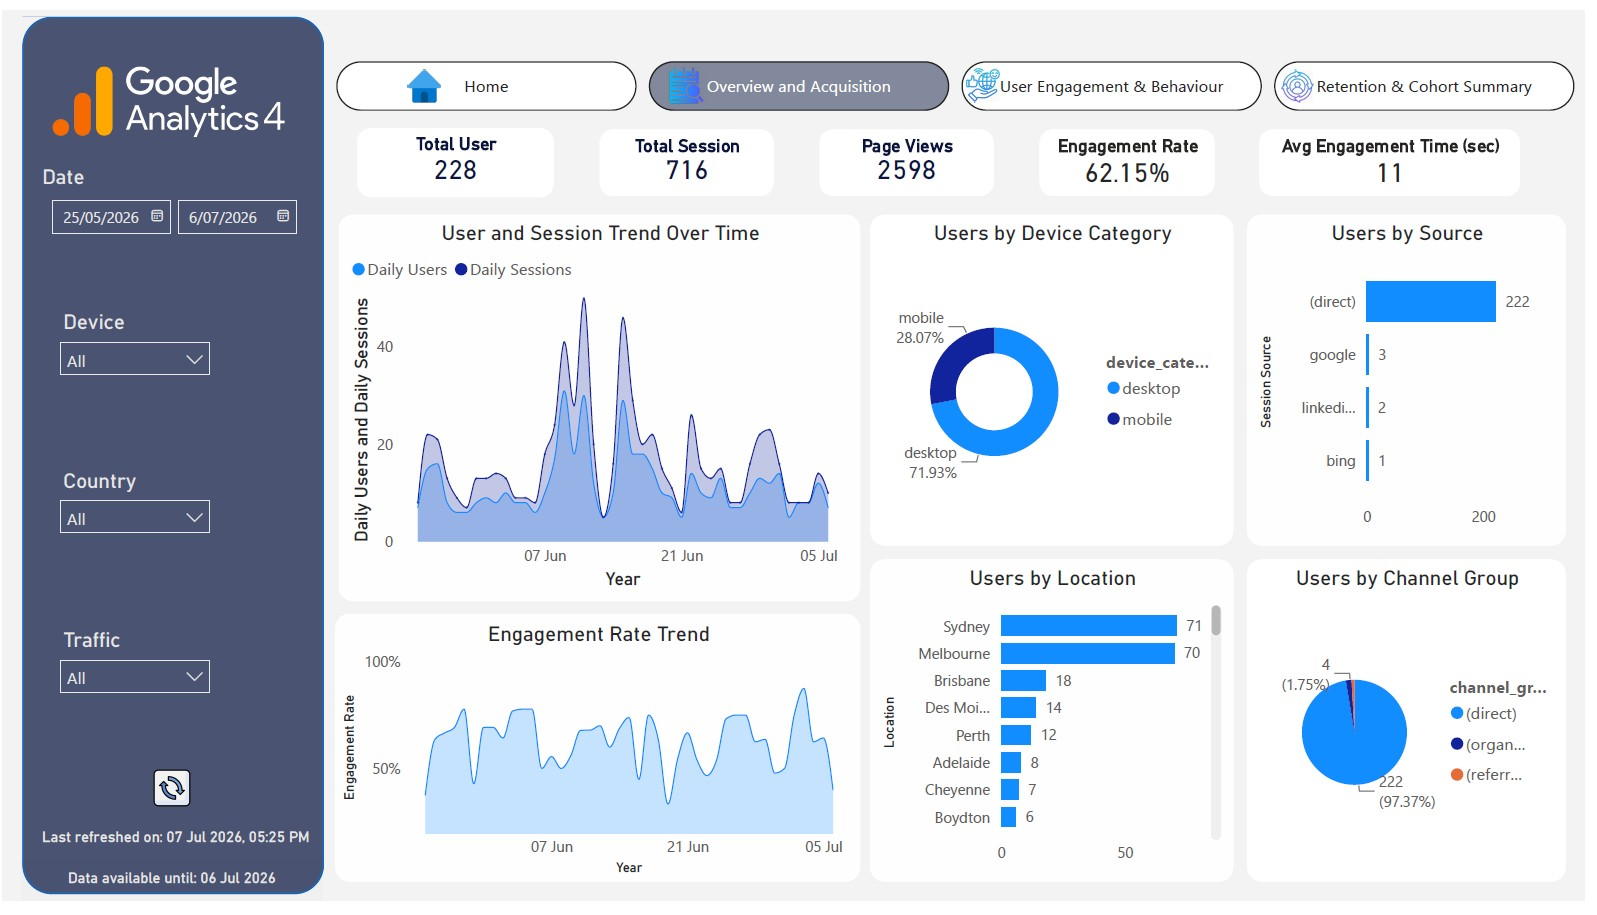

Layout of this report page (visuals, bound fields, positions):
{"tool":"powerbi","page":{"name":"Overview and Acquisition ","canvas":[1280,720],"ordinal":1},"visuals":[{"type":"card","title":"Page Views","fields":{"Values":["Measure.Total Page Views"]},"box":[660.6,95.8,141.5,54.4],"z":0},{"type":"card","title":"Total Session ","fields":{"Values":["Measure.Total Sessions"]},"box":[482.6,95.8,141.5,54.4],"z":1000},{"type":"card","title":"Total User","fields":{"Values":["Measure.Total Users"]},"box":[286.5,94.9,159.6,56.2],"z":2000},{"type":"shape","box":[11,0,254,720],"z":3000},{"type":"slicer","fields":{"Values":["Events.country"]},"box":[35.7,365.2,141.8,78.2],"z":6000},{"type":"slicer","title":"Date","fields":{"Values":["Calendar.Date"]},"box":[27.3,123.6,227.3,62.7],"z":7000},{"type":"card","title":"Engagement Rate","fields":{"Values":["Measure.Engagement Rate"]},"box":[838.6,95.8,142.4,54.4],"z":8000},{"type":"card","title":"Avg Engagement Time (sec)","fields":{"Values":["Measure.Avg Engagement Time"]},"box":[1017.4,95.8,210.4,54.4],"z":9000},{"type":"lineChart","title":"Engagement Rate Trend","fields":{"Y":["Measure.Engagement Rate"],"Category":["Calendar.Date.Variation.Date Hierarchy.Year","Calendar.Date.Variation.Date Hierarchy.Quarter","Calendar.Date.Variation.Date Hierarchy.Month","Calendar.Date.Variation.Date Hierarchy.Day"]},"box":[269.1,488.2,424.5,216.4],"z":10000},{"type":"pieChart","title":"Users by Channel Group","fields":{"Category":["Events.channel_group"],"Y":["Measure.Total UsersTrend"]},"box":[1007.3,443.6,257.3,260.9],"z":11000},{"type":"clusteredBarChart","title":"Users by Source","fields":{"Category":["Events.session_source"],"Y":["Measure.Total Users by Channel"]},"box":[1007.3,165.5,257.3,267.3],"z":12000},{"type":"donutChart","title":"Users by Device Category","fields":{"Category":["Events.device_category"],"Y":["Measure.Total UsersTrend"]},"box":[701.8,165.5,294.5,267.3],"z":13000},{"type":"barChart","title":"Users by Location","fields":{"Category":["Events.city"],"Y":["Measure.Total UsersTrend"]},"box":[701.8,443.6,294.5,260.9],"z":14000},{"type":"slicer","fields":{"Values":["Events.device_category"]},"box":[35.7,236.7,141.8,78.2],"z":15000},{"type":"card","fields":{"Values":["Measure.Last Refresh Time"]},"box":[17.2,653.8,245.7,33.6],"z":16000},{"type":"pageNavigator","box":[264.8,36.3,1015.6,49.9],"z":17000},{"type":"card","title":"Data Available until","fields":{"Values":["Measure.BigQuery Data Available Until"]},"box":[14.5,687.4,244.8,32.6],"z":18000},{"type":"image","box":[316.5,48.1,49.9,26.3],"z":19000},{"type":"image","box":[121.5,612.1,30.8,33.6],"z":20000},{"type":"image","box":[1031,48.1,33.6,26.3],"z":21000},{"type":"areaChart","title":"User and Session Trend Over Time","fields":{"Category":["Calendar.Date.Variation.Date Hierarchy.Year","Calendar.Date.Variation.Date Hierarchy.Quarter","Calendar.Date.Variation.Date Hierarchy.Month","Calendar.Date.Variation.Date Hierarchy.Day"],"Y":["Measure.Daily Users","Measure.Daily Sessions"]},"box":[271.8,165.5,421.8,312.7],"z":22000},{"type":"image","box":[779.8,46.2,27.2,28.1],"z":23000},{"type":"slicer","fields":{"Values":["Events.channel_group"]},"box":[35.7,493.6,141.8,78.2],"z":24000},{"type":"image","box":[534.1,44.4,38.1,32.6],"z":25000},{"type":"image","box":[4.5,15.4,272,117.9],"z":25001}]}

Visuals, with their boxes in screenshot pixels (x1, y1, x2, y2), scaled from the page's 1280x720 canvas onto the 1597x915 screenshot:
"Page Views" card: (x1=824, y1=122, x2=1001, y2=191)
"Total Session " card: (x1=602, y1=122, x2=779, y2=191)
"Total User" card: (x1=357, y1=121, x2=557, y2=192)
shape: (x1=14, y1=0, x2=331, y2=914)
slicer - Events.country: (x1=45, y1=464, x2=221, y2=563)
"Date" slicer: (x1=34, y1=157, x2=318, y2=237)
"Engagement Rate" card: (x1=1046, y1=122, x2=1224, y2=191)
"Avg Engagement Time (sec)" card: (x1=1269, y1=122, x2=1532, y2=191)
"Engagement Rate Trend" lineChart: (x1=336, y1=620, x2=865, y2=895)
"Users by Channel Group" pieChart: (x1=1257, y1=564, x2=1578, y2=895)
"Users by Source" clusteredBarChart: (x1=1257, y1=210, x2=1578, y2=550)
"Users by Device Category" donutChart: (x1=876, y1=210, x2=1243, y2=550)
"Users by Location" barChart: (x1=876, y1=564, x2=1243, y2=895)
slicer - Events.device_category: (x1=45, y1=301, x2=221, y2=400)
card - Measure.Last Refresh Time: (x1=21, y1=831, x2=328, y2=874)
pageNavigator: (x1=330, y1=46, x2=1596, y2=110)
"Data Available until" card: (x1=18, y1=874, x2=324, y2=914)
image: (x1=395, y1=61, x2=457, y2=95)
image: (x1=152, y1=778, x2=190, y2=821)
image: (x1=1286, y1=61, x2=1328, y2=95)
"User and Session Trend Over Time" areaChart: (x1=339, y1=210, x2=865, y2=608)
image: (x1=973, y1=59, x2=1007, y2=94)
slicer - Events.channel_group: (x1=45, y1=627, x2=221, y2=727)
image: (x1=666, y1=56, x2=714, y2=98)
image: (x1=6, y1=20, x2=345, y2=169)
